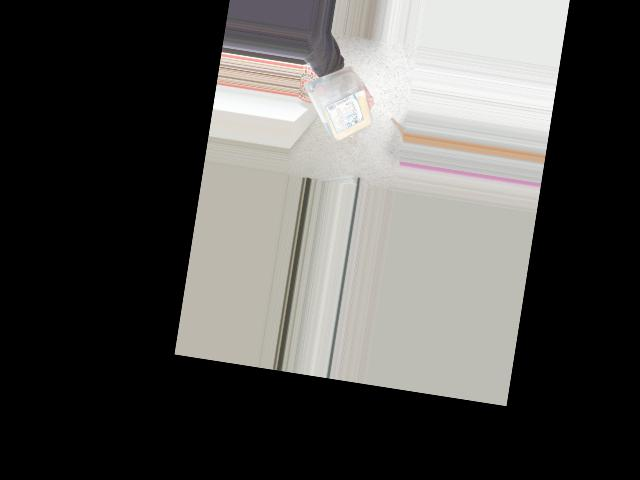cheese: (324, 75, 371, 145)
